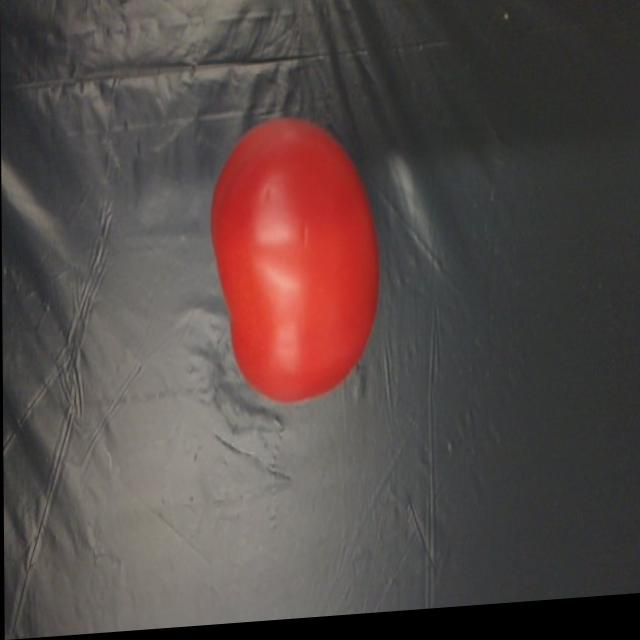kirmizi: (201, 120, 391, 446)
